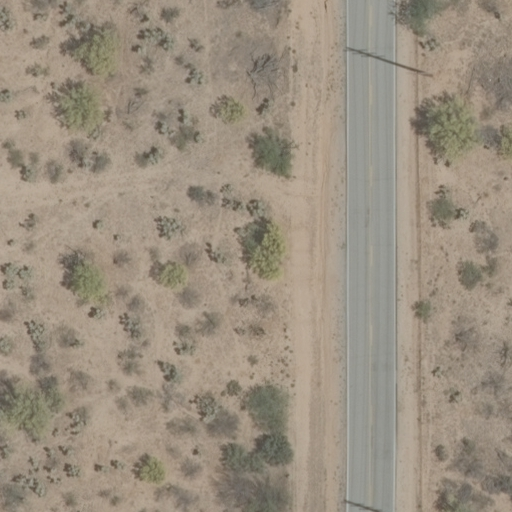DT: (411, 65, 439, 83)
